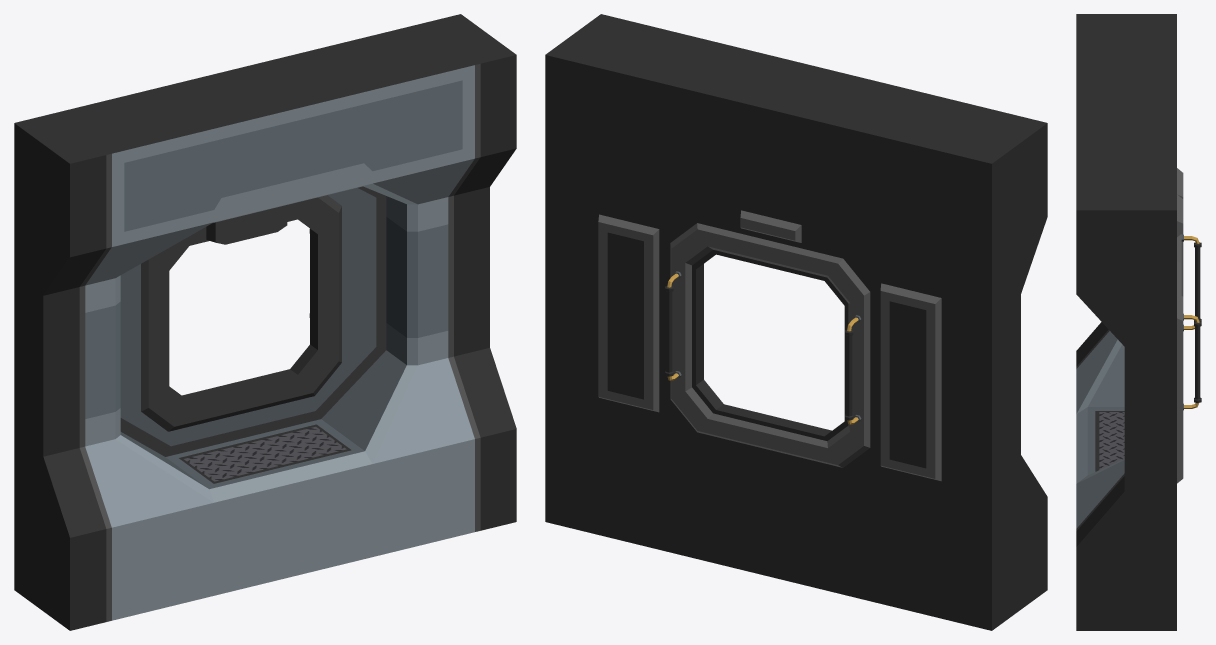
File: SM_Bld_Wall_EscPod_Hatch_01.fbx
The picture shows the model from 3 angles, left to right: view 1: azimuth 30°, elevation 25°; view 2: azimuth 150°, elevation 25°; view 3: azimuth 270°, elevation 25°; orthographic projection. The views are drawn at different scales.
Visible parts, largest first — view 1: SM_Bld_Wall_EscPod_Hatch_01; view 2: SM_Bld_Wall_EscPod_Hatch_01; view 3: SM_Bld_Wall_EscPod_Hatch_01.
Part boxes in pixels (left/top/right/bottom): SM_Bld_Wall_EscPod_Hatch_01: left=14, top=14, right=516, bottom=630; SM_Bld_Wall_EscPod_Hatch_01: left=545, top=14, right=1047, bottom=630; SM_Bld_Wall_EscPod_Hatch_01: left=1076, top=14, right=1201, bottom=630.
Bounding box in the file's own units: 500 × 500 × 135.
1 material, 1 textured.
